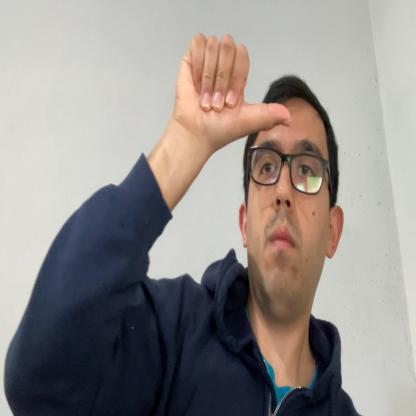A: (174, 30, 290, 147)
